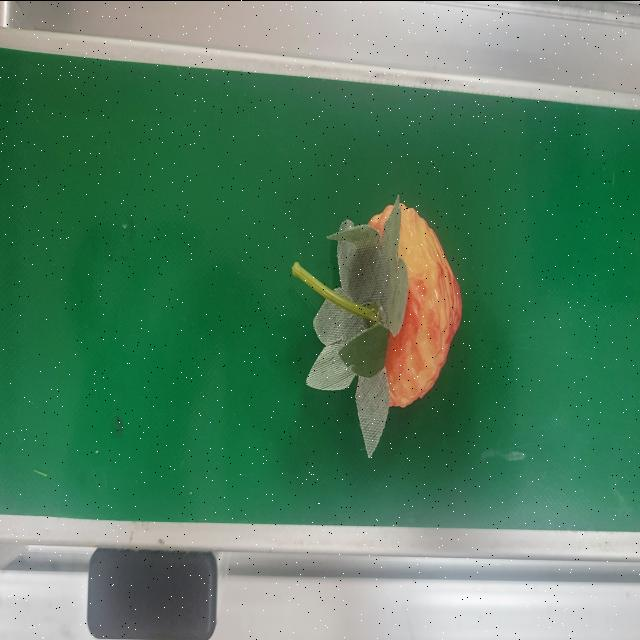Moldy Strawberry: (328, 198, 466, 422)
